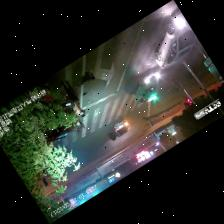person: (61, 80, 78, 104), (75, 71, 94, 86), (72, 103, 84, 116)
